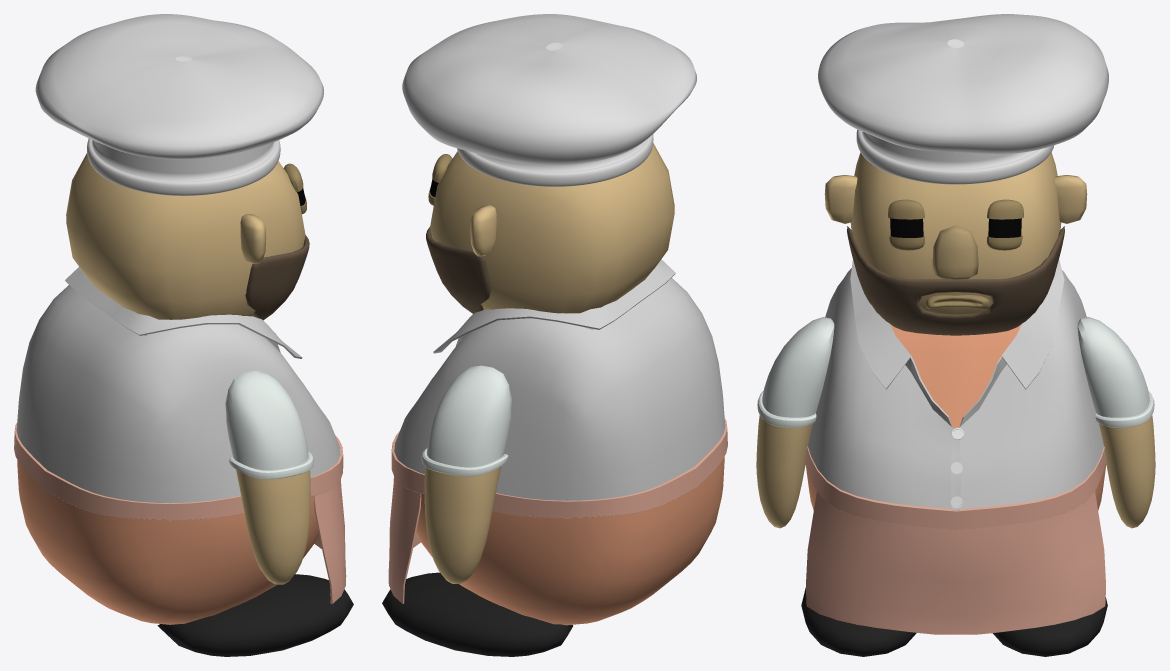
Rendered from CharacterBaker_IntroProj(1).fbx.
The picture shows the model from 3 angles, left to right: view 1: azimuth 30°, elevation 25°; view 2: azimuth 150°, elevation 25°; view 3: azimuth 270°, elevation 25°; orthographic projection. The views are drawn at different scales.
Parts seen in each view (by area): view 1: Cube.001, Circle.001, Cube.007, Cube.003, Arms.001, Feet.001, Cube.018, Cube.017, Cube.019, Cube.021; view 2: Cube.001, Circle.001, Cube.007, Cube.003, Arms.001, Feet.001, Cube.018, Cube.017, Cube.019, Cube.021; view 3: Cube.001, Circle.001, Cube.018, Arms.001, Cube.007, Cube.017, Cube.003, Feet.001, Cube.021, Cube.019, Cube.020, Cube.022.
Boxes of the visible parts, left/top/right/bottom form: Cube.001: left=16, top=267, right=340, bottom=503; Circle.001: left=35, top=14, right=323, bottom=195; Cube.007: left=66, top=153, right=305, bottom=324; Cube.003: left=17, top=460, right=319, bottom=624; Arms.001: left=225, top=371, right=313, bottom=584; Feet.001: left=157, top=574, right=353, bottom=656; Cube.018: left=14, top=422, right=346, bottom=603; Cube.017: left=245, top=235, right=309, bottom=320; Cube.019: left=240, top=214, right=266, bottom=263; Cube.021: left=283, top=163, right=306, bottom=214; Cube.001: left=394, top=259, right=725, bottom=500; Circle.001: left=402, top=14, right=696, bottom=186; Cube.007: left=430, top=143, right=674, bottom=318; Cube.003: left=416, top=457, right=724, bottom=625; Arms.001: left=421, top=365, right=511, bottom=583; Feet.001: left=382, top=572, right=572, bottom=656; Cube.018: left=388, top=418, right=727, bottom=603; Cube.017: left=426, top=226, right=491, bottom=313; Cube.019: left=470, top=205, right=496, bottom=256; Cube.021: left=428, top=154, right=452, bottom=205; Cube.001: left=808, top=259, right=1103, bottom=510; Circle.001: left=818, top=14, right=1108, bottom=184; Cube.018: left=805, top=446, right=1106, bottom=634; Arms.001: left=756, top=317, right=1155, bottom=528; Cube.007: left=850, top=152, right=1061, bottom=314; Cube.017: left=847, top=226, right=1064, bottom=335; Cube.003: left=805, top=324, right=1106, bottom=510; Feet.001: left=801, top=587, right=1107, bottom=656; Cube.021: left=888, top=199, right=1023, bottom=250; Cube.019: left=824, top=175, right=1087, bottom=223; Cube.020: left=932, top=225, right=978, bottom=279; Cube.022: left=925, top=295, right=990, bottom=309.
Size of the model in its own units: 156 by 308 by 193.
